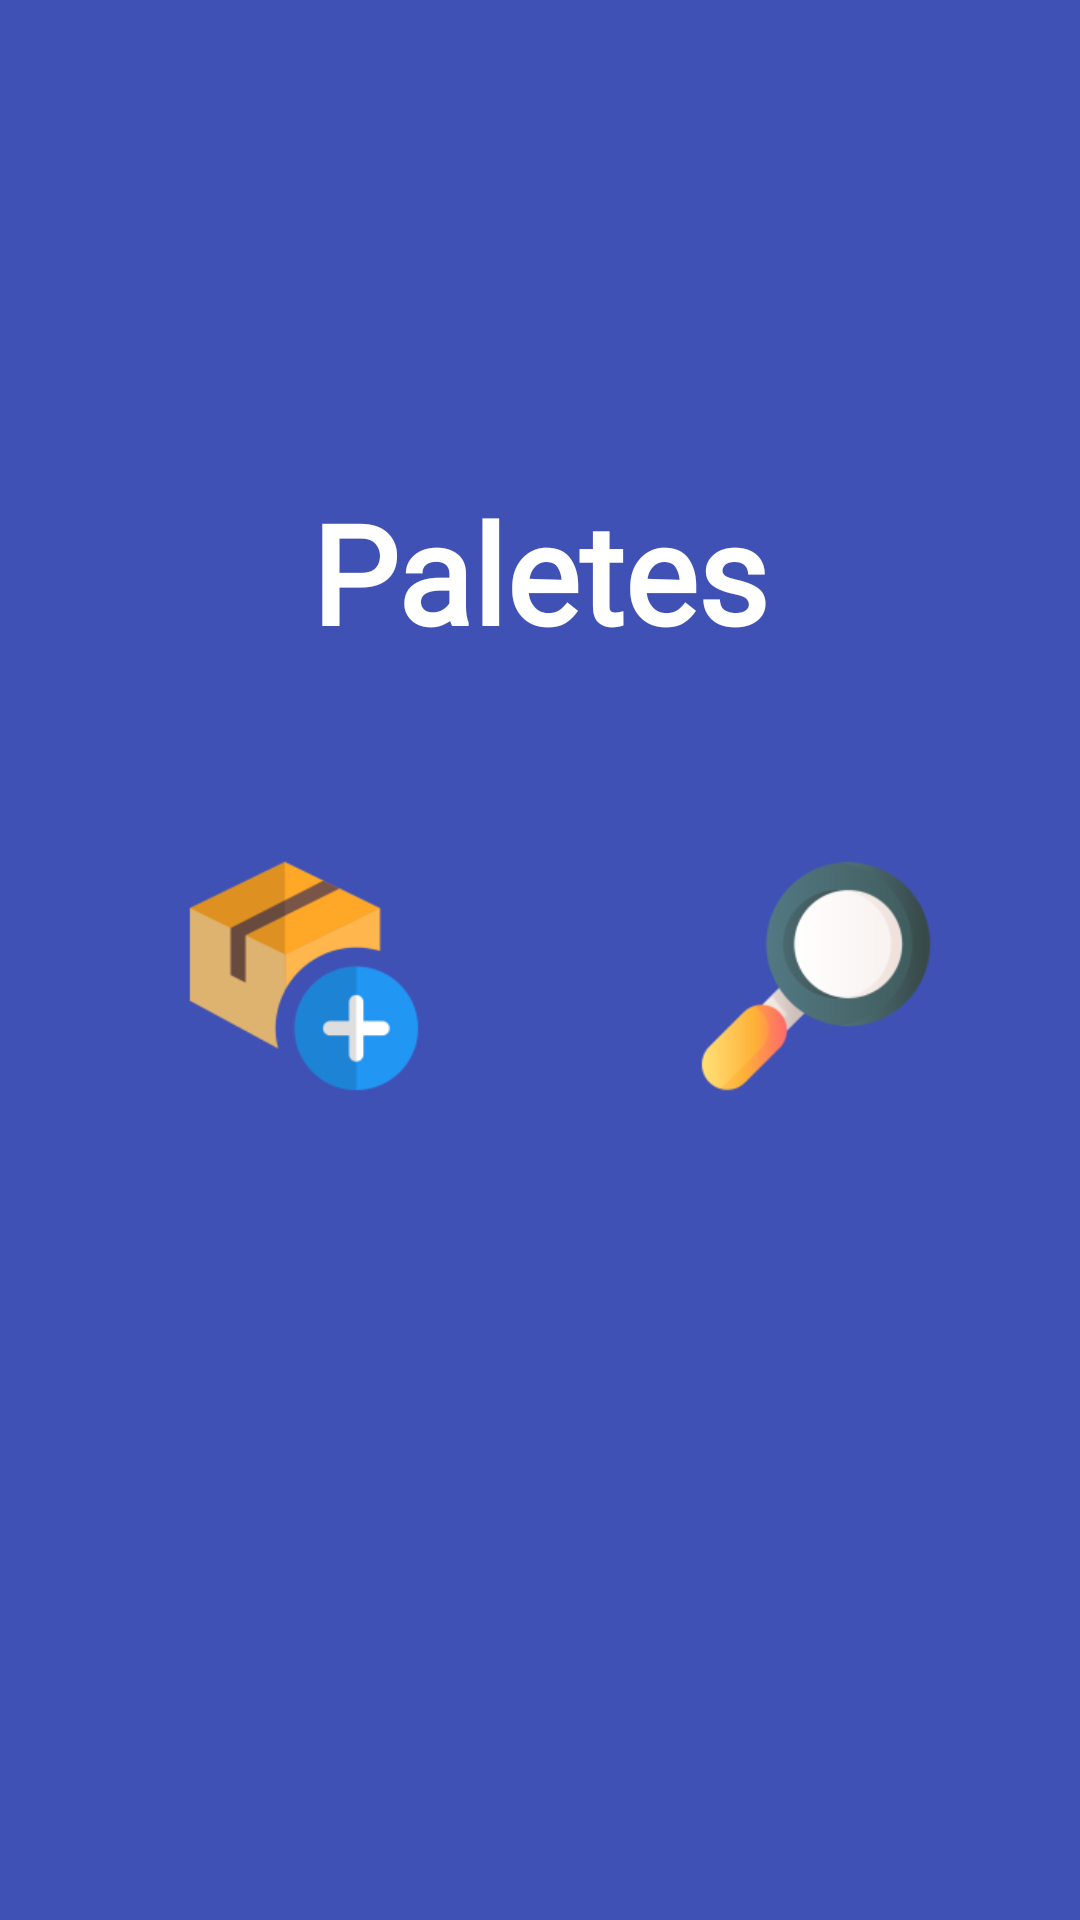

Icon click points for this 1080w x 1920h phone screenshot, format (x,y):
nova palete: (303,975)
procurar palete: (815,976)
